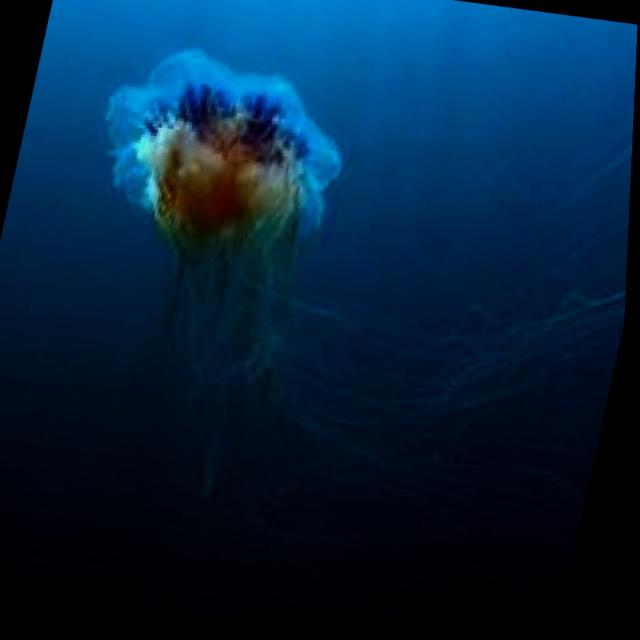Human: (26, 27, 370, 519)
